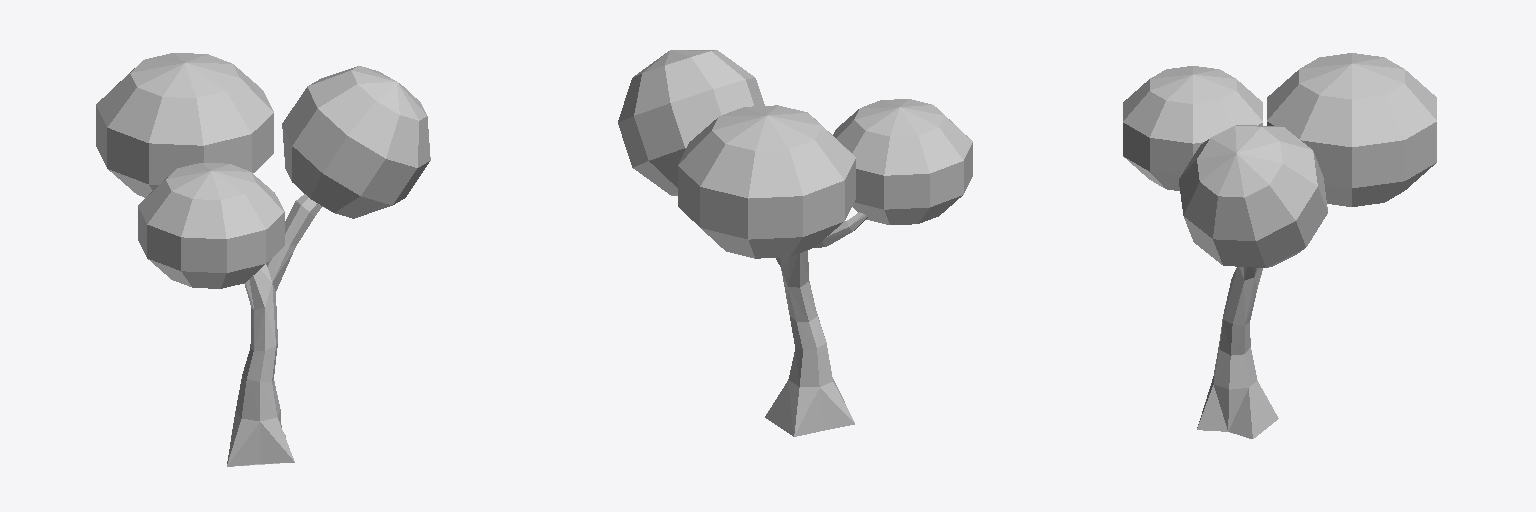
File: lowPolyTree.obj
3 views of the same model, side by side, from view 1: azimuth 30°, elevation 25°; view 2: azimuth 150°, elevation 25°; view 3: azimuth 270°, elevation 25° (orthographic).
Visible parts, largest first — view 1: Cylinder; view 2: Cylinder; view 3: Cylinder.
Part boxes in pixels (x1,y1,x2,y2): Cylinder: (96, 53, 430, 466); Cylinder: (618, 50, 972, 436); Cylinder: (1123, 53, 1436, 438).
Size of the model in its own units: 10.99 by 12.09 by 9.83.